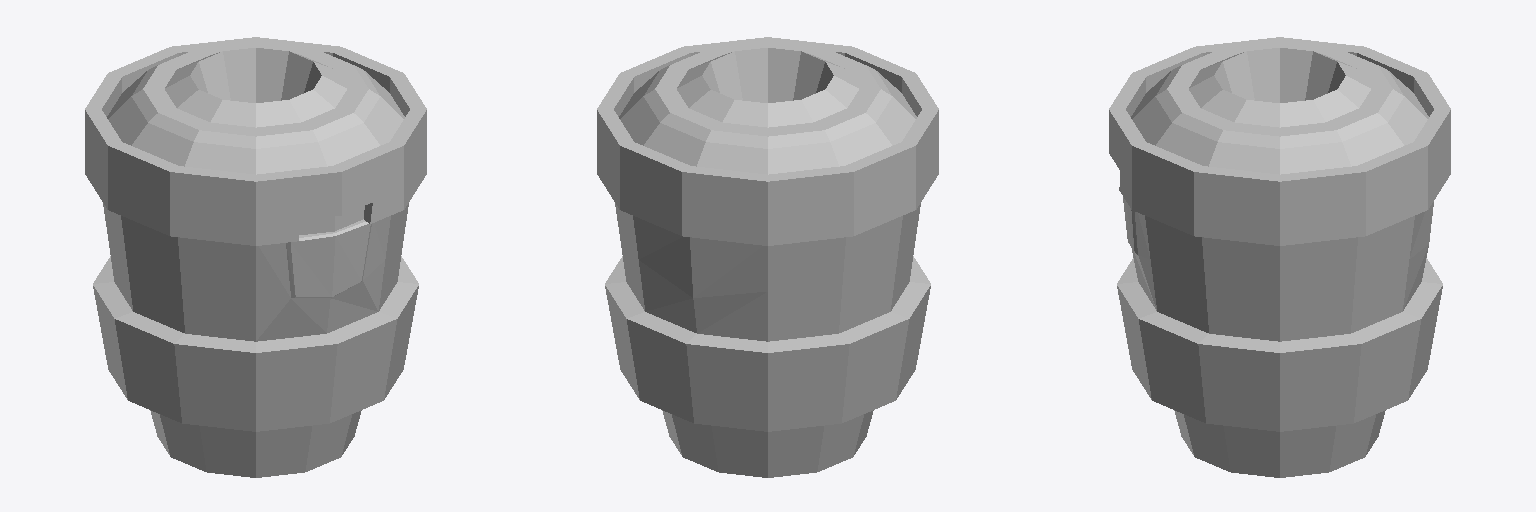
Rendered from Bottom-Torso.obj.
3 views of the same model, side by side, from view 1: azimuth 30°, elevation 25°; view 2: azimuth 150°, elevation 25°; view 3: azimuth 270°, elevation 25° (orthographic).
Parts seen in each view (by area): view 1: Bottom-Torso_R02.004; view 2: Bottom-Torso_R02.004; view 3: Bottom-Torso_R02.004.
Part boxes in pixels (x1,y1,x2,y2): Bottom-Torso_R02.004: (85,37,426,477); Bottom-Torso_R02.004: (597,37,938,477); Bottom-Torso_R02.004: (1109,37,1450,477).
Bounding box in the file's own units: 3.43 × 3.99 × 3.43.